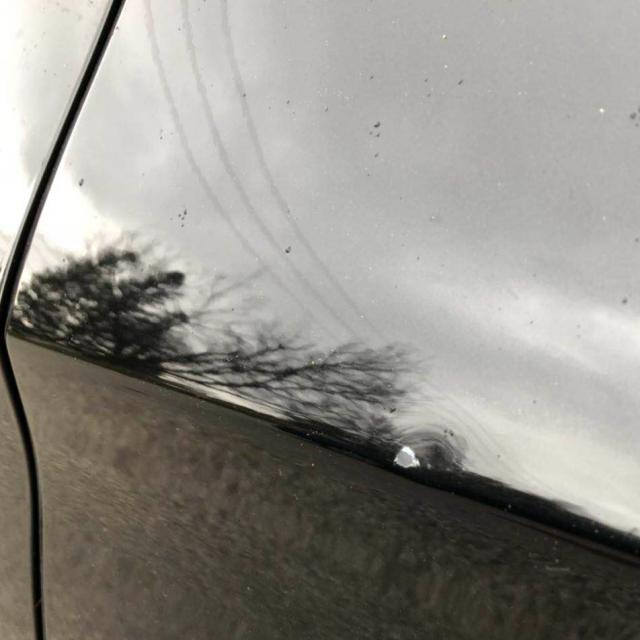dents: (373, 411, 475, 493)
